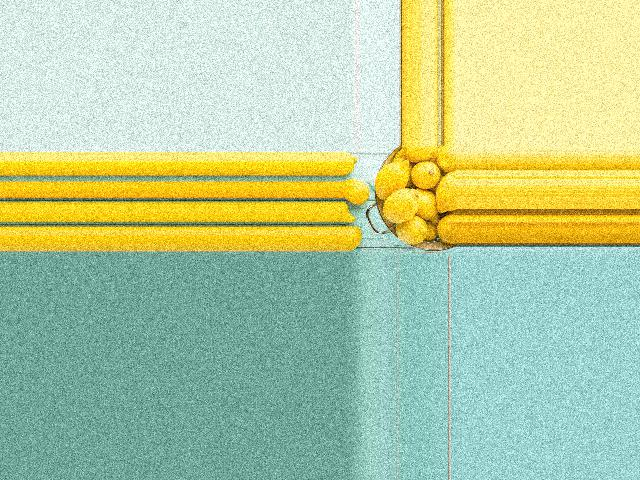lemon: (437, 146, 457, 177)
